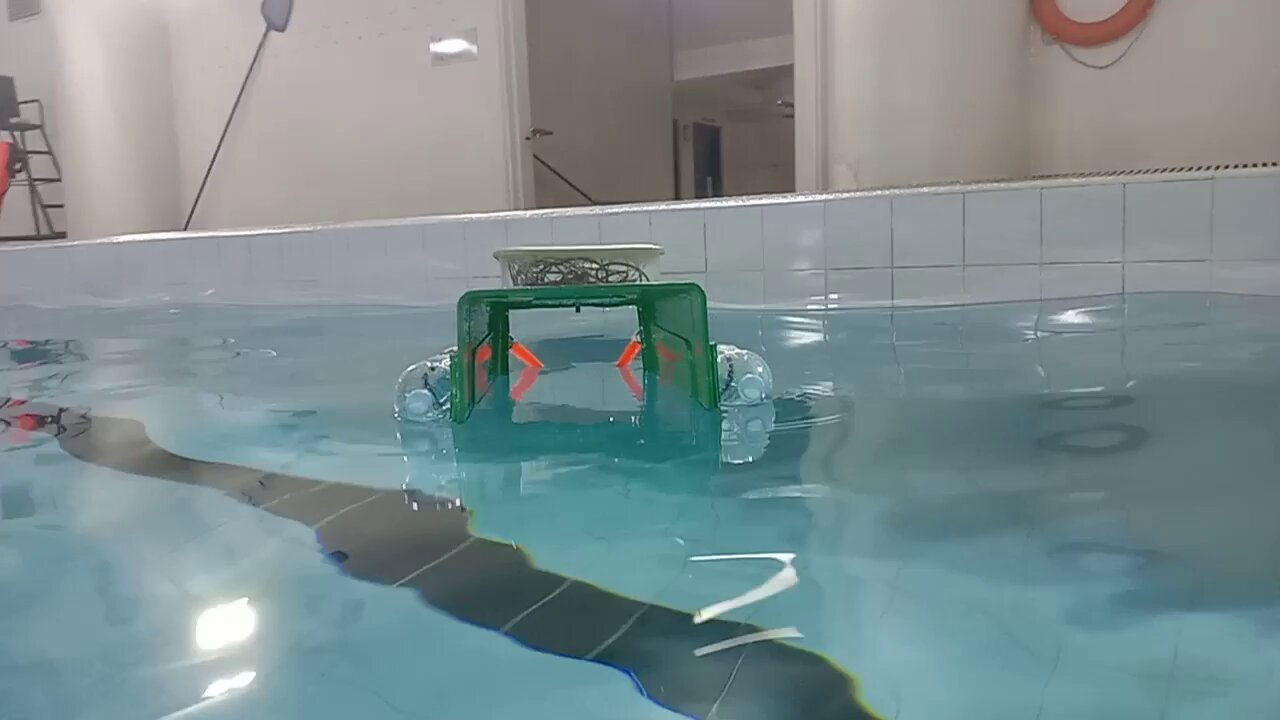drone: (391, 237, 774, 436)
